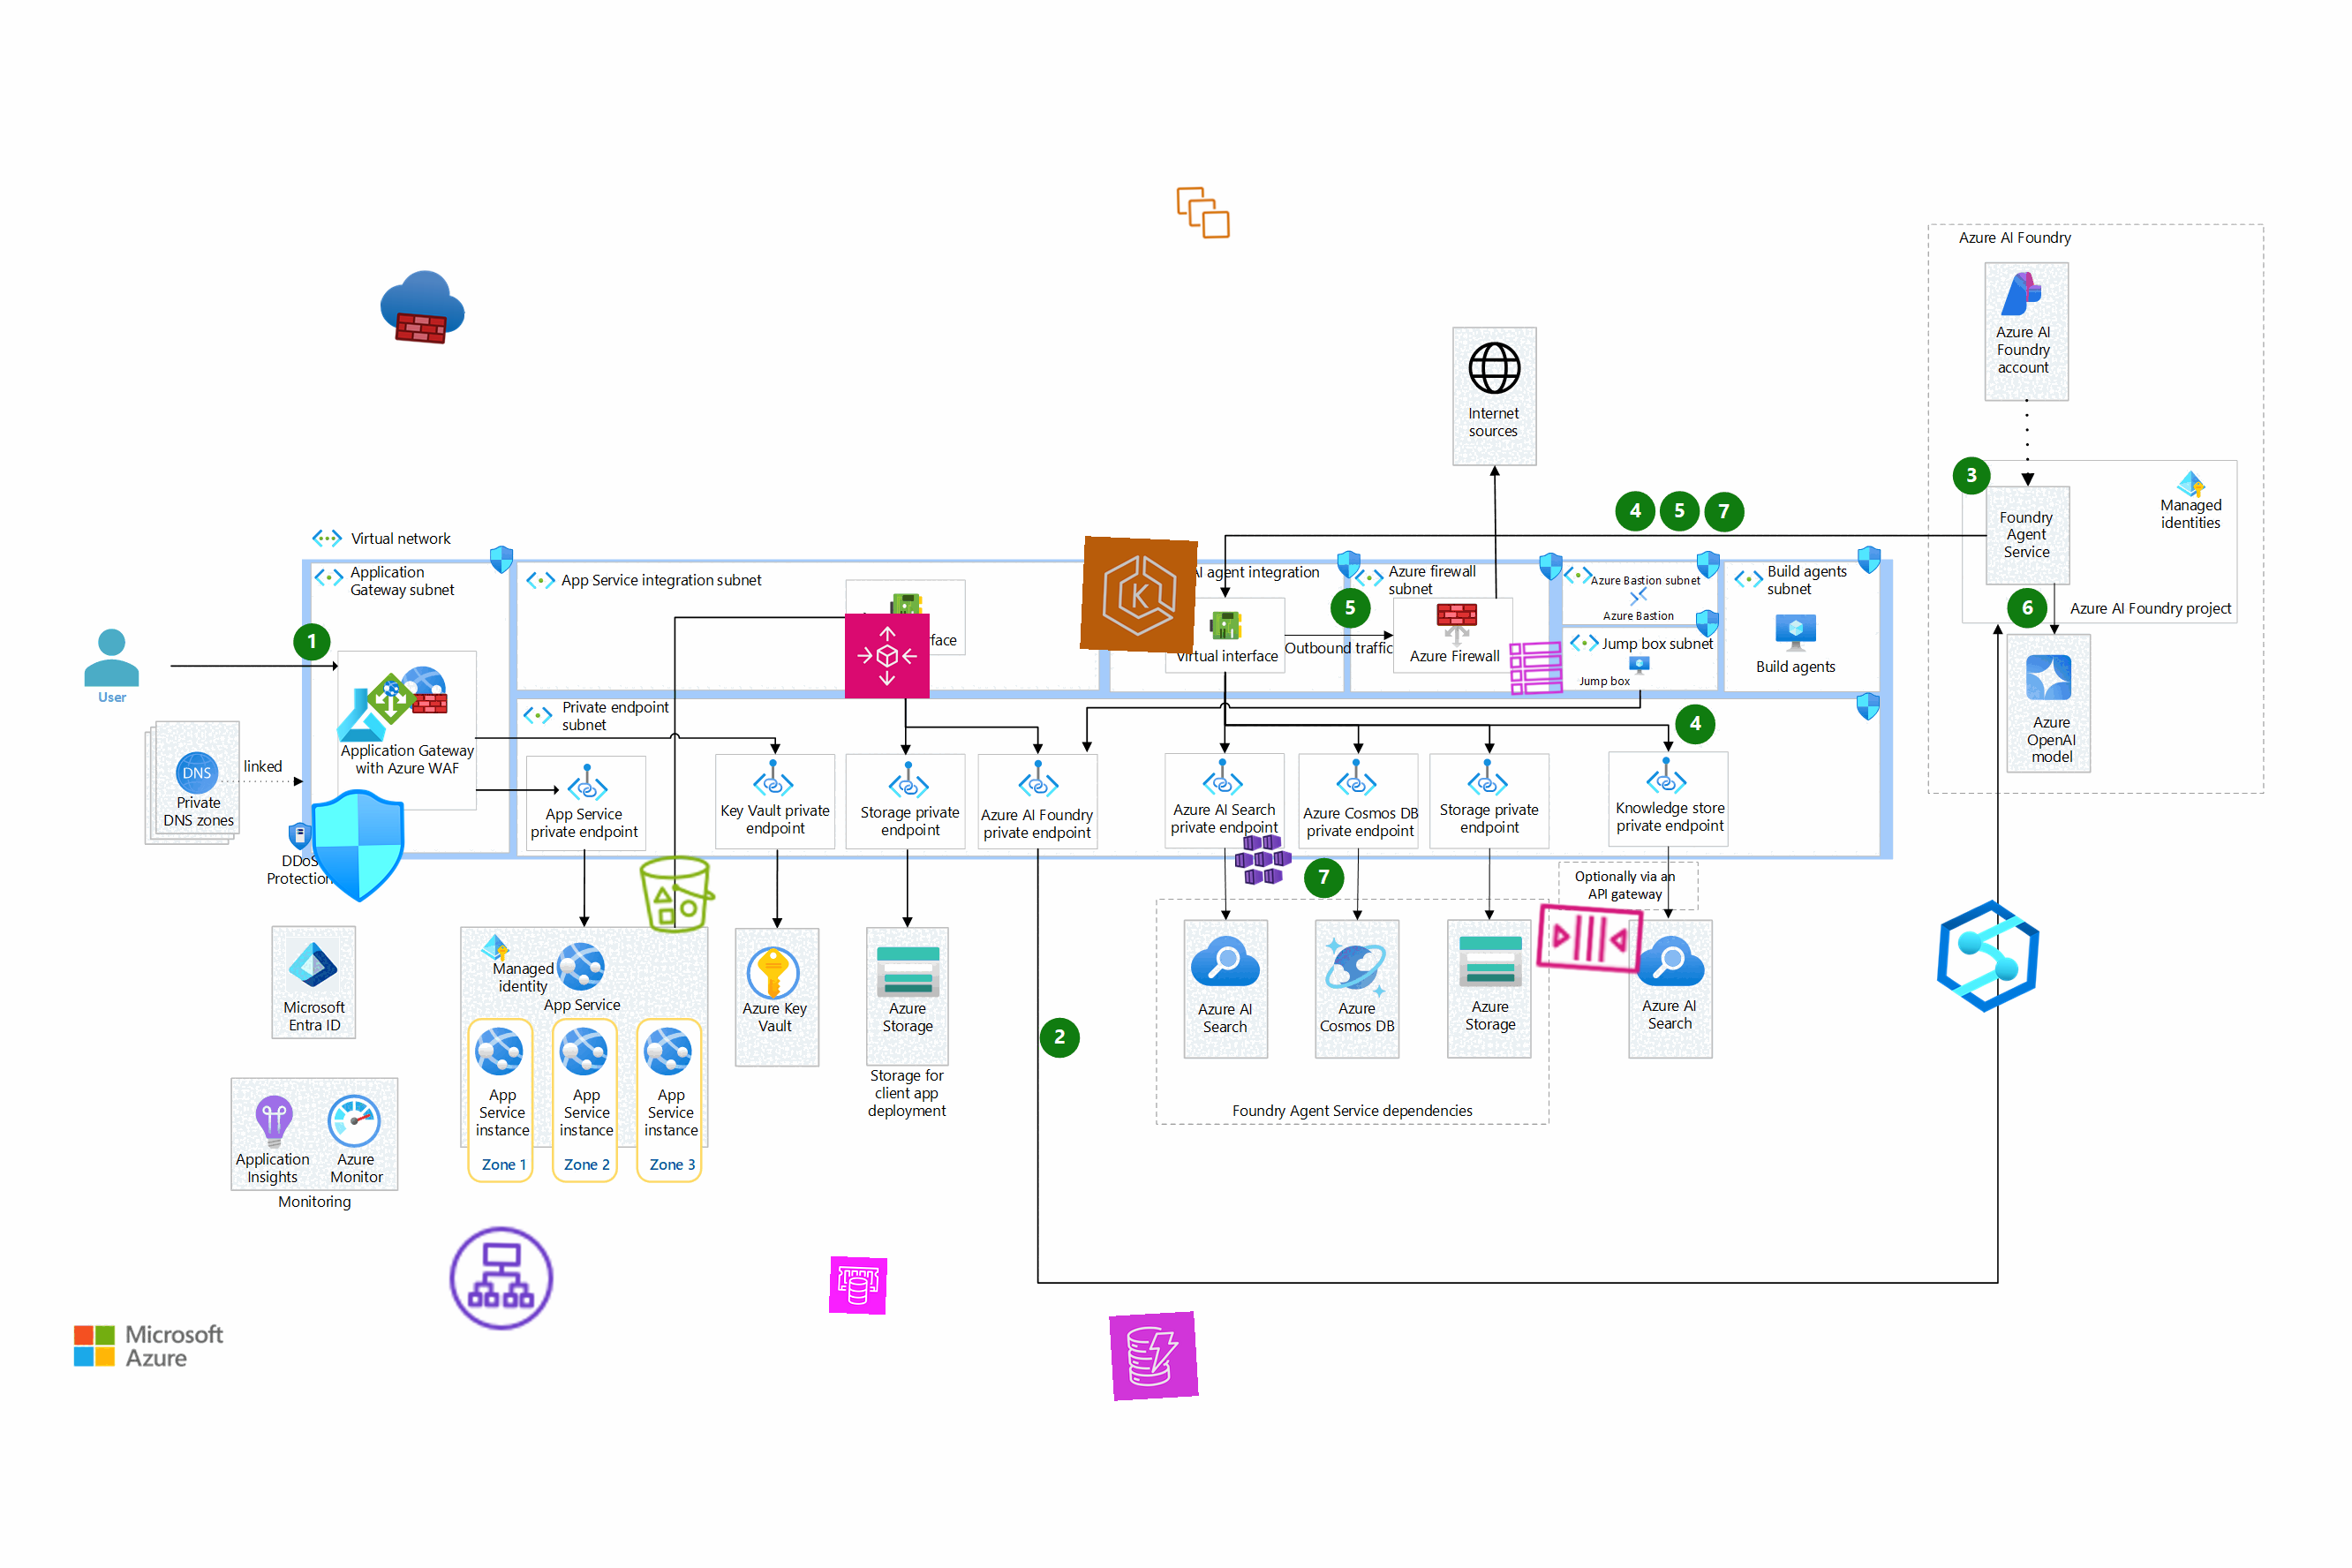aws_amazon_dynamodb: (1109, 1311, 1199, 1402)
aws_amazon_elastic_kubernetes_service: (1080, 535, 1199, 654)
aws_amazon_elasticache: (828, 1255, 889, 1316)
aws_auto_scaling: (843, 612, 931, 700)
aws_dynamodb_table: (1507, 639, 1566, 698)
aws_ec2_instances: (1174, 184, 1232, 241)
aws_elastic_load_balancing_application_load_balancer: (443, 1220, 560, 1337)
aws_simple_queue_service_queue: (1529, 877, 1650, 999)
aws_simple_storage_service_bucket_with_objects: (633, 849, 723, 940)
azure_firewalls: (376, 261, 469, 352)
azure_kubernetes_services: (1234, 829, 1293, 889)
azure_machine_learning: (332, 686, 390, 744)
azure_network_security_groups: (301, 787, 416, 905)
azure_synapse_analytics: (1927, 896, 2049, 1017)
